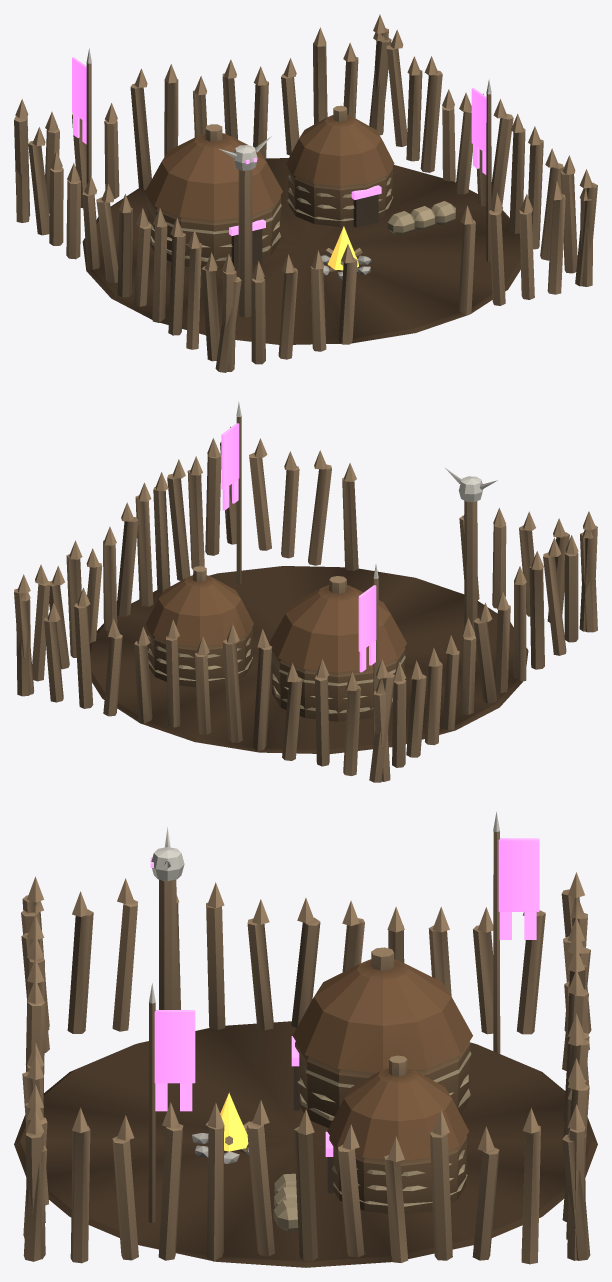
The model's file is enemy_camp.glb.
3 views of the same model, one above another, from view 1: azimuth 30°, elevation 25°; view 2: azimuth 150°, elevation 25°; view 3: azimuth 270°, elevation 25° (orthographic). The views are drawn at different scales.
Visible parts, largest first — view 1: enemy_camp; view 2: enemy_camp; view 3: enemy_camp.
Boxes of the visible parts, x1,y1,x2,y2 form: enemy_camp: (14, 14, 597, 372); enemy_camp: (14, 402, 597, 782); enemy_camp: (14, 812, 597, 1267).
Bounding box in the file's own units: 1.9 × 0.8791 × 1.9.
